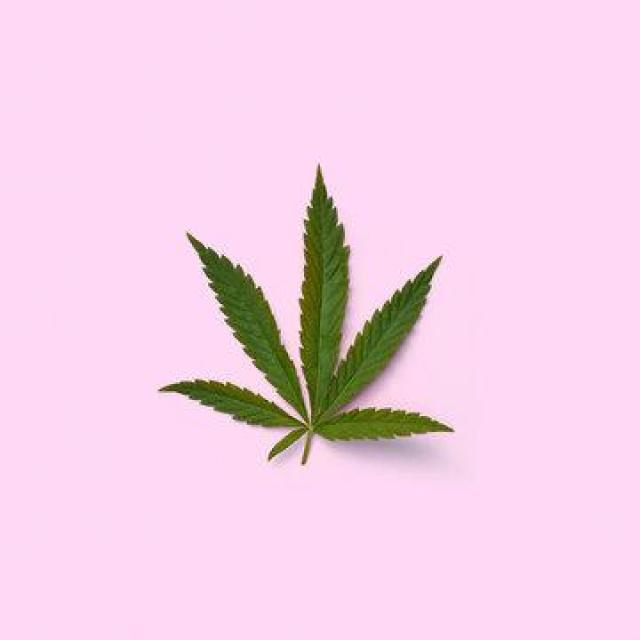cannabis: (158, 165, 455, 466)
